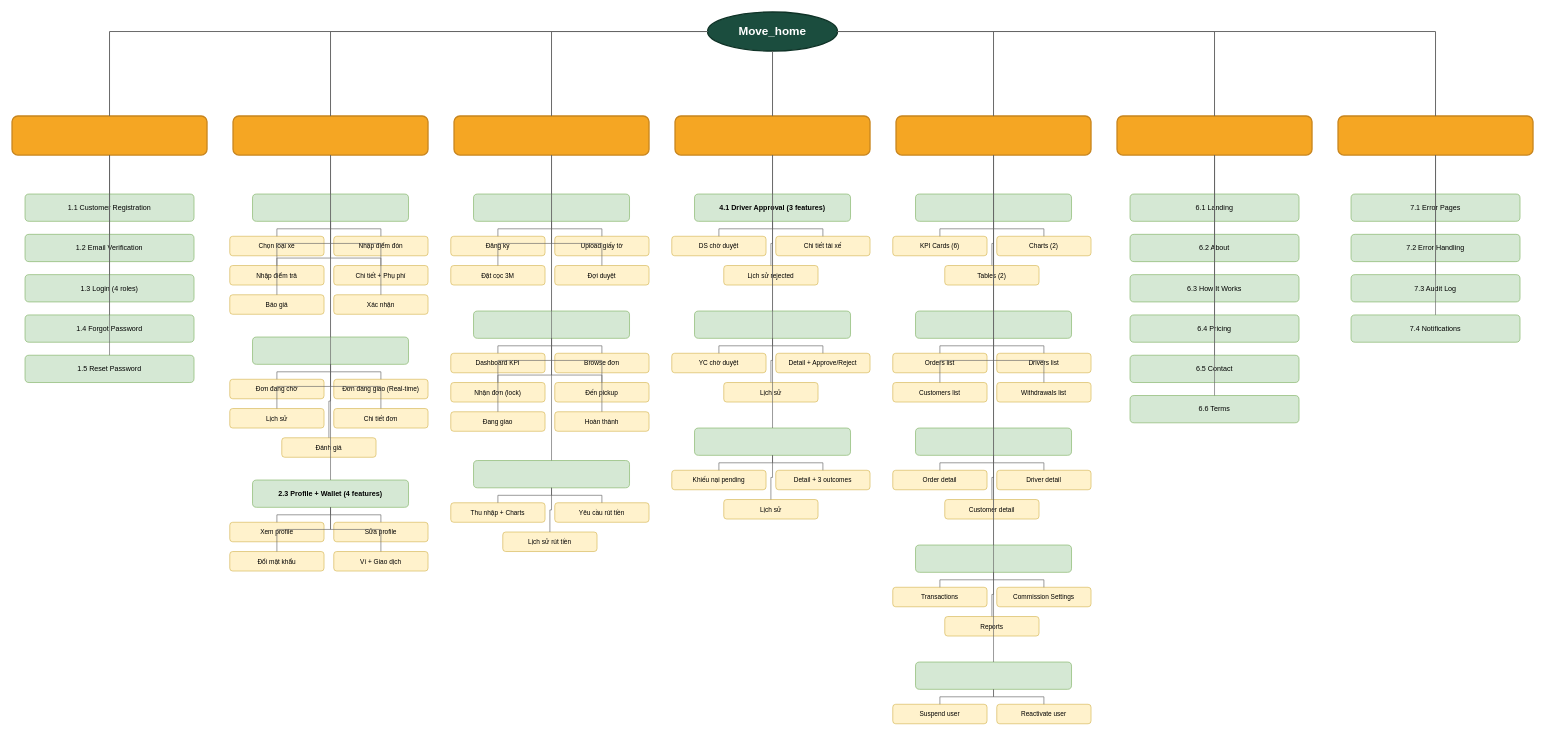
Some shapes in this 1544 by 735 pixel diagram are drawn without their labels. Here are the shapes that lost their labels. From the top down, the centre of each, then its label:
(109,135): 1. Authentication (5 features)
(330,135): 2. Customer Journey (16 screens)
(551,135): 3. Driver Journey (13 screens)
(772,135): 4. Manager Operations (9 screens)
(993,135): 5. Admin Operations (12 screens)
(1214,135): 6. Public Marketing (6 pages)
(1435,135): 7. System / Cross-cutting (4 features)
(330,207): 2.1 Booking (6 steps)
(551,207): 3.1 Onboarding (4 steps)
(993,207): 5.1 Dashboard (3 components)
(551,324): 3.2 Workflow hàng ngày (6 features)
(772,324): 4.2 Withdrawal Management (3 features)
(993,324): 5.2 List Pages (4 pages)
(330,350): 2.2 Orders Management (5 features)
(772,441): 4.3 Dispute Resolution (3 features)
(993,441): 5.3 Detail Pages (3 pages)
(551,474): 3.3 Tài chính (3 features)
(993,558): 5.4 Financial Oversight (3 features)
(993,675): 5.5 User Management (2 features)
